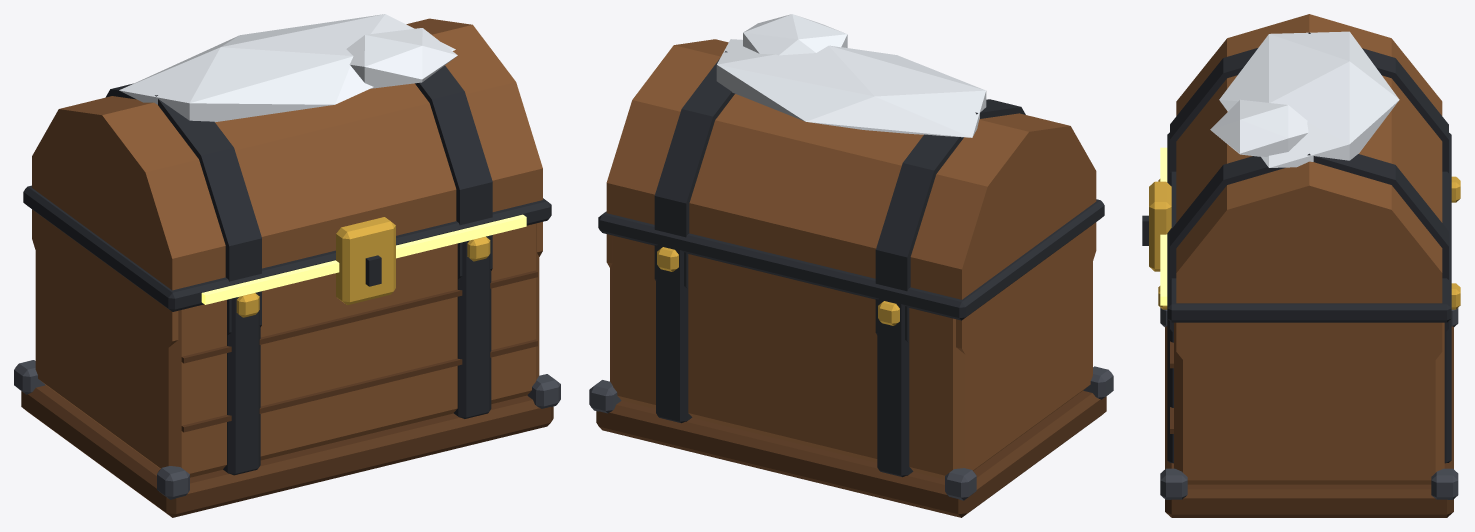
Rendered from chest.glb.
3 renders of one model, left to right at view 1: azimuth 30°, elevation 25°; view 2: azimuth 150°, elevation 25°; view 3: azimuth 270°, elevation 25°, orthographic. The views are drawn at different scales.
Parts seen in each view (by area): view 1: chest; view 2: chest; view 3: chest.
Boxes of the visible parts, left/top/right/bottom form: chest: left=14, top=14, right=560, bottom=517; chest: left=589, top=14, right=1113, bottom=517; chest: left=1142, top=14, right=1460, bottom=517.
Bounding box in the file's own units: 0.96 × 0.8725 × 0.705.
